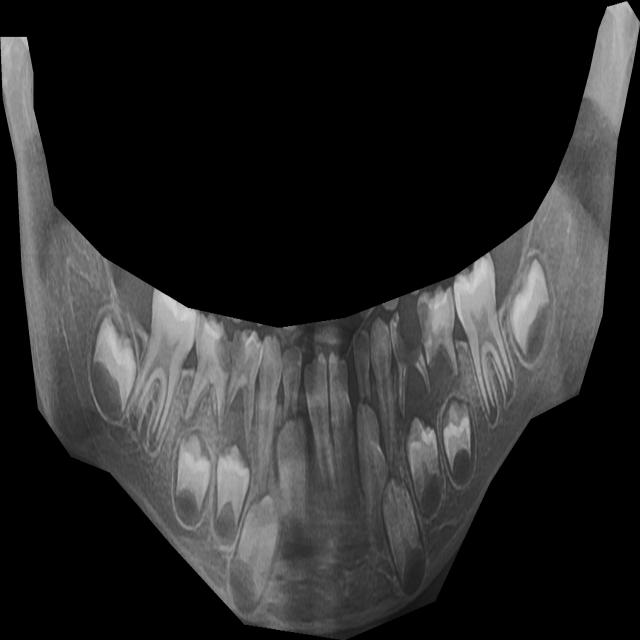mandibula: (0, 1, 640, 640)
